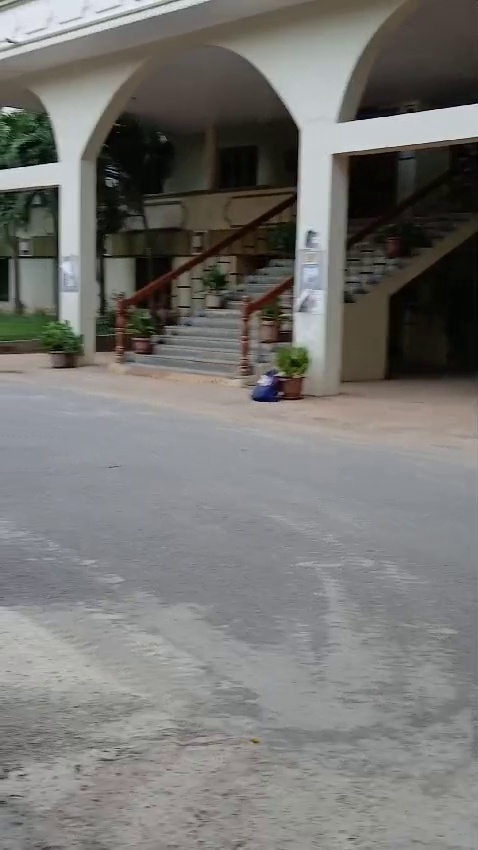bag: (248, 361, 283, 411)
